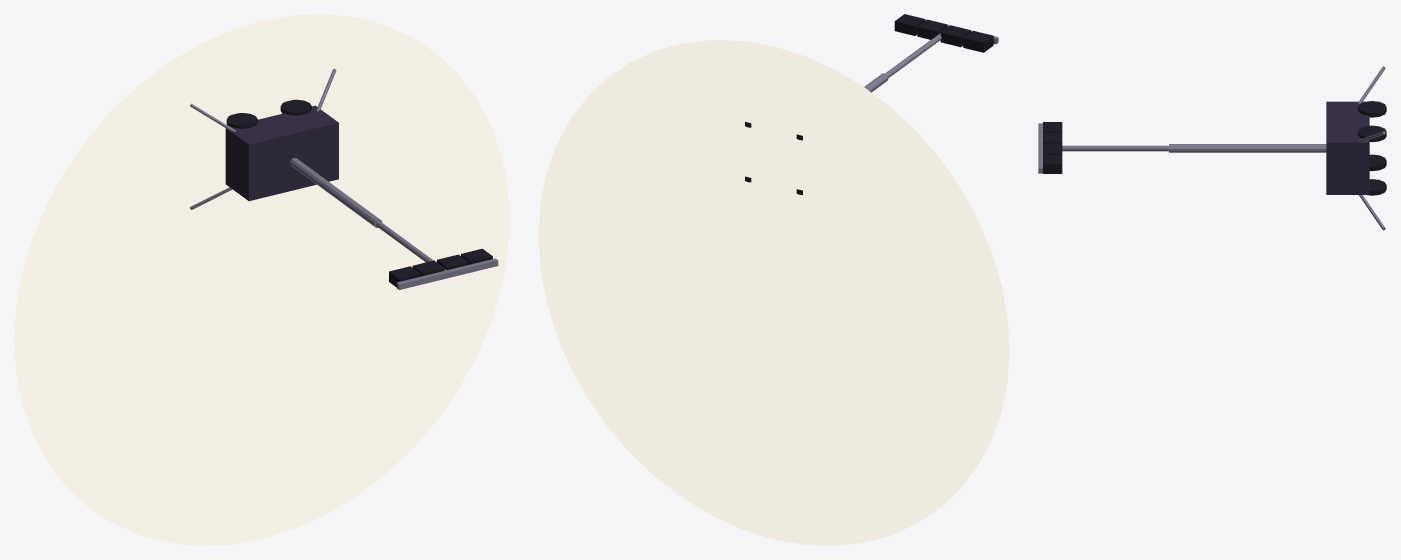
File: tour_lumiere.glb
3 views of the same model, side by side, from view 1: azimuth 30°, elevation 25°; view 2: azimuth 150°, elevation 25°; view 3: azimuth 270°, elevation 25° (orthographic). The views are drawn at different scales.
Parts seen in each view (by area): view 1: nappe, caisson, mat_bas, barre; view 2: nappe; view 3: caisson, mat_bas, mat_haut.
Part boxes in pixels (x1,y1,x2,y2): nappe: (14, 14, 509, 545); caisson: (225, 105, 338, 200); mat_bas: (290, 158, 382, 227); barre: (396, 258, 498, 289); nappe: (538, 40, 1009, 545); caisson: (1326, 101, 1369, 194); mat_bas: (1169, 144, 1326, 152); mat_haut: (1062, 145, 1168, 151).
Size of the model in its own units: 11 by 11 by 7.2.
